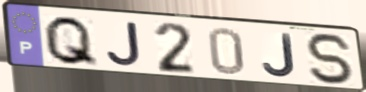0: (206, 26, 248, 77)
2: (152, 21, 197, 75)
J: (104, 21, 143, 69), (261, 32, 299, 80)
Q: (42, 14, 102, 68)
S: (303, 31, 358, 87)
